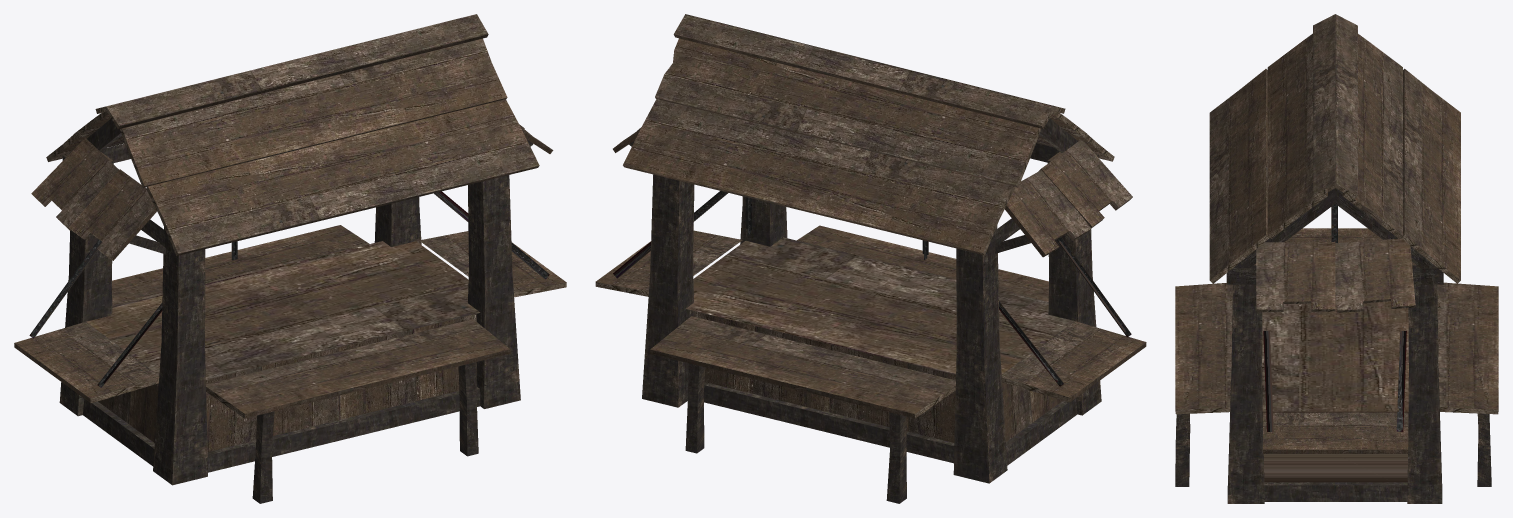
File: eso_gu2_merchantstall2-transformed.glb
3 renders of one model, left to right at view 1: azimuth 30°, elevation 25°; view 2: azimuth 150°, elevation 25°; view 3: azimuth 270°, elevation 25°, orthographic. The views are drawn at different scales.
Visible parts, largest first — view 1: default; view 2: default; view 3: default.
Part boxes in pixels (bbox=[...]): default: bbox=[14, 14, 566, 503]; default: bbox=[595, 14, 1146, 503]; default: bbox=[1175, 14, 1498, 503].
Size of the model in its own units: 6.72 by 4.82 by 4.15.
Materials: 1 (1 with a texture image).
